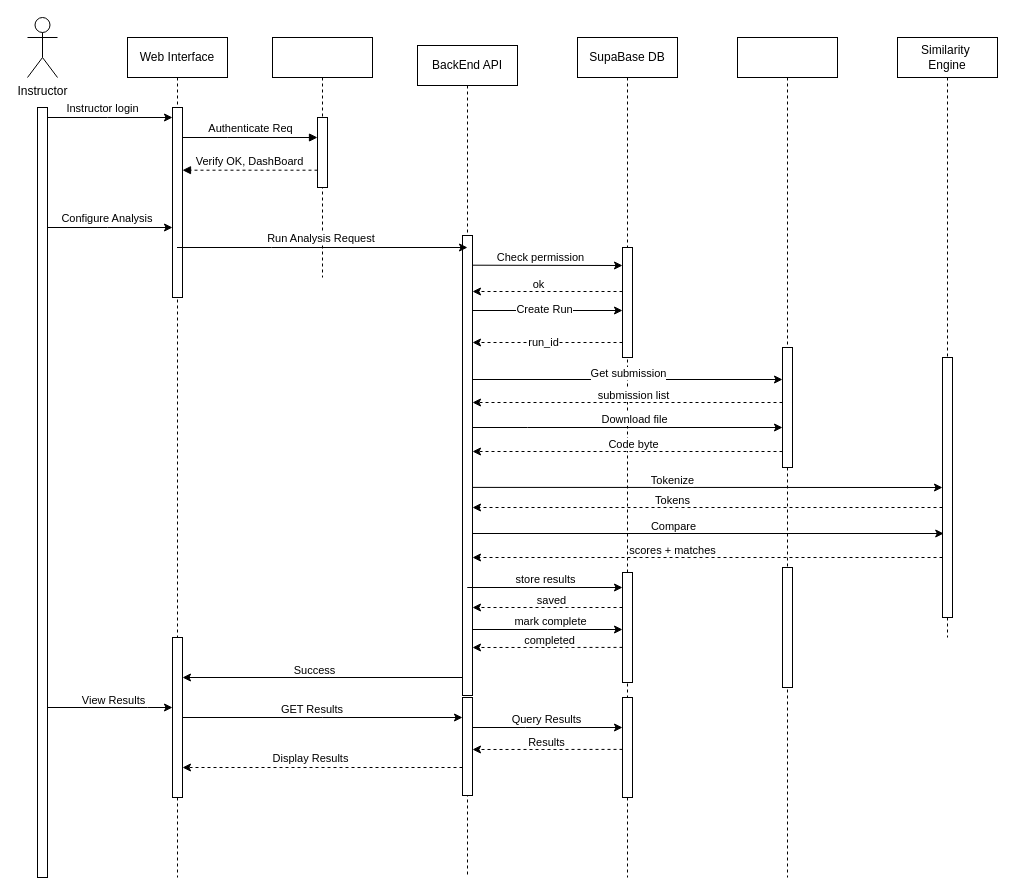
Some shapes in this 1015 by 895 pixel diagram are drawn without their labels. Each missing label, with the centre of its shape:
"Authenticator" goes at (x=322, y=157).
"SupaBase Storage" goes at (x=787, y=457).
